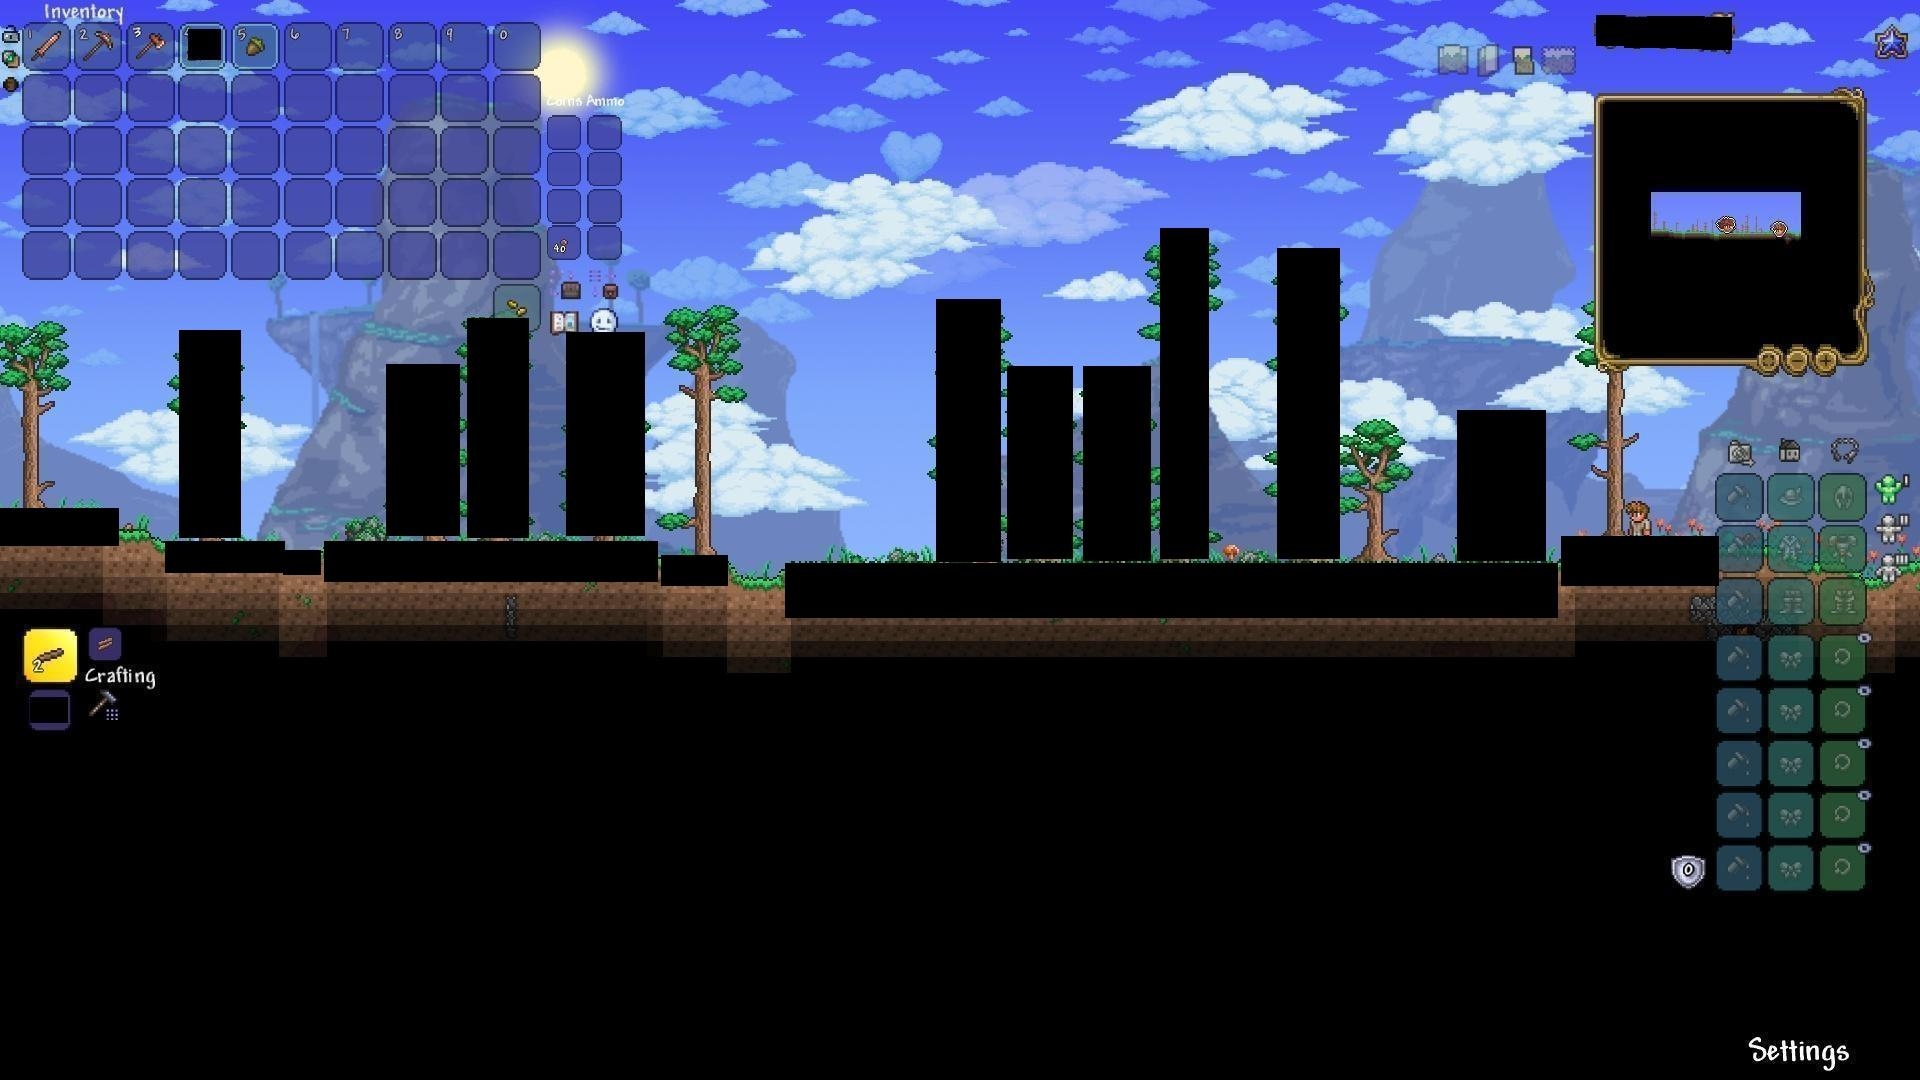dirt: (733, 568, 785, 593), (120, 524, 162, 551)
tree: (669, 299, 733, 553), (5, 315, 61, 505), (1342, 415, 1407, 558), (1589, 364, 1634, 534)
wood: (92, 633, 117, 657)
